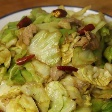juanxincairoupian: (3, 6, 112, 112)
